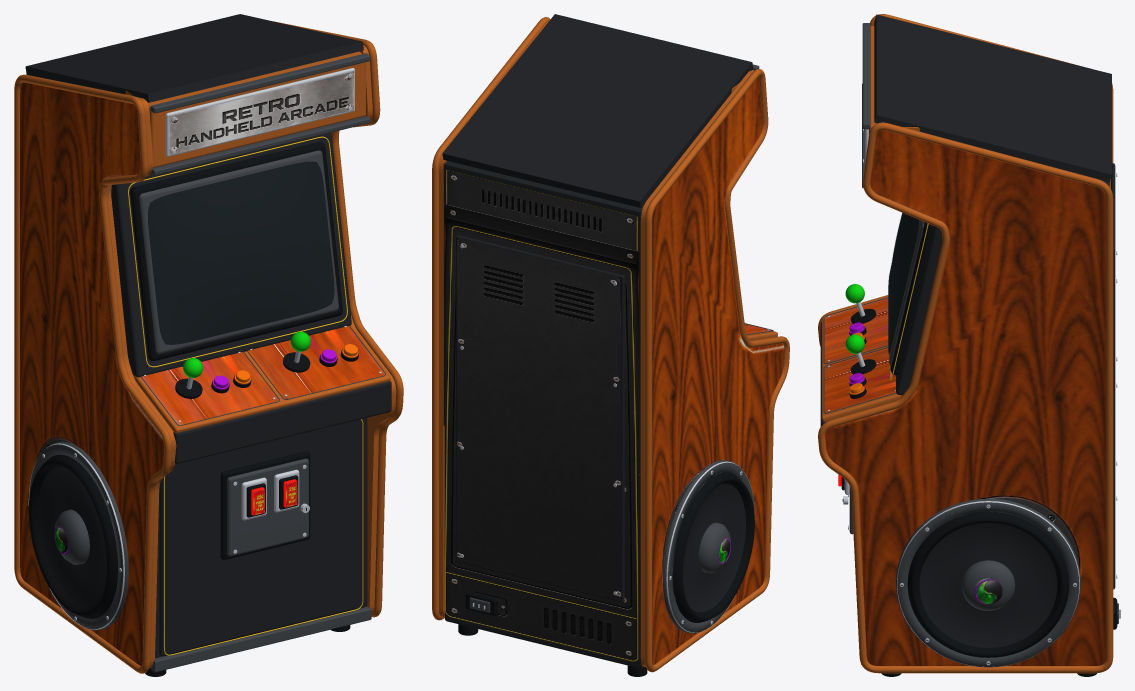
The model's file is retro-handheld.glb.
The picture shows the model from 3 angles, left to right: view 1: azimuth 30°, elevation 25°; view 2: azimuth 150°, elevation 25°; view 3: azimuth 270°, elevation 25°; orthographic projection. The views are drawn at different scales.
Visible parts, largest first — view 1: Cabinet_Static, Screen_Display; view 2: Cabinet_Static; view 3: Cabinet_Static, Screen_Display.
Part boxes in pixels (x1,y1,x2,y2): Cabinet_Static: (14,14,403,676); Screen_Display: (148,161,334,344); Cabinet_Static: (432,14,789,676); Cabinet_Static: (818,14,1120,676); Screen_Display: (888,213,918,353).
Bounding box in the file's own units: 0.868 × 1.8 × 0.8746.
16 materials, 4 textured.
